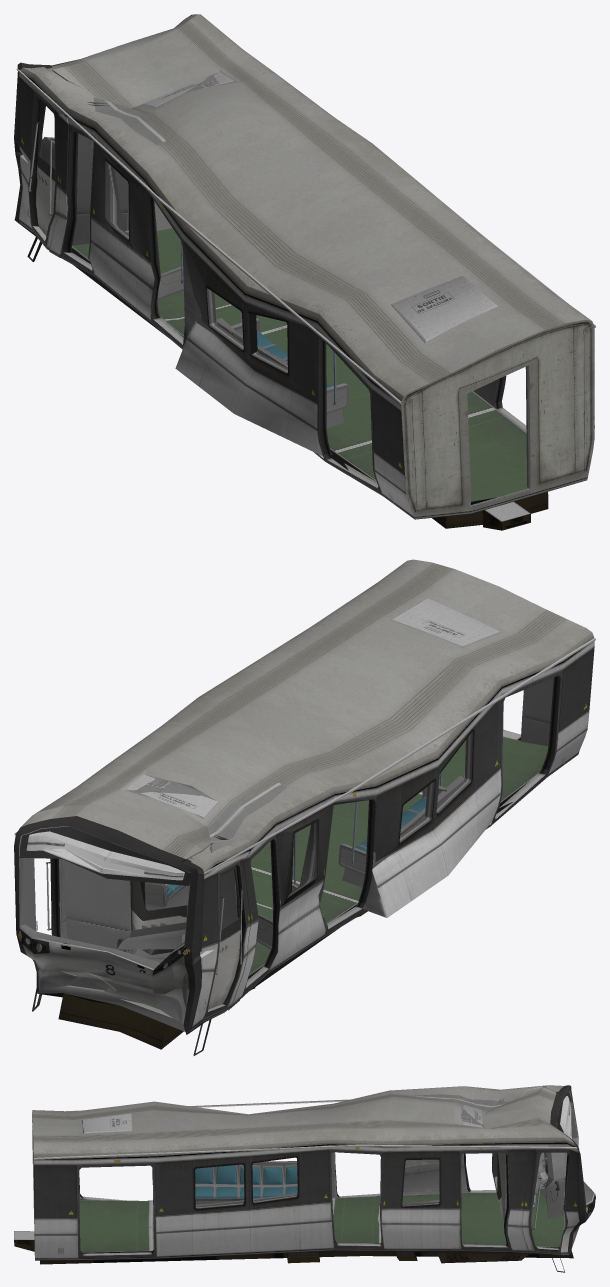
The model's file is F_Train_Damaged.fbx.
The picture shows the model from 3 angles, top to bottom: view 1: azimuth 30°, elevation 25°; view 2: azimuth 150°, elevation 25°; view 3: azimuth 270°, elevation 25°; orthographic projection. The views are drawn at different scales.
Parts seen in each view (by area): view 1: SubwayTrain_01_inside.002; view 2: SubwayTrain_01_inside.002; view 3: SubwayTrain_01_inside.002.
Boxes of the visible parts, x1,y1,x2,y2 form: SubwayTrain_01_inside.002: (14, 14, 595, 530); SubwayTrain_01_inside.002: (14, 559, 595, 1055); SubwayTrain_01_inside.002: (14, 1085, 595, 1272).
Bounding box in the file's own units: 4.13 × 4.23 × 14.93.
